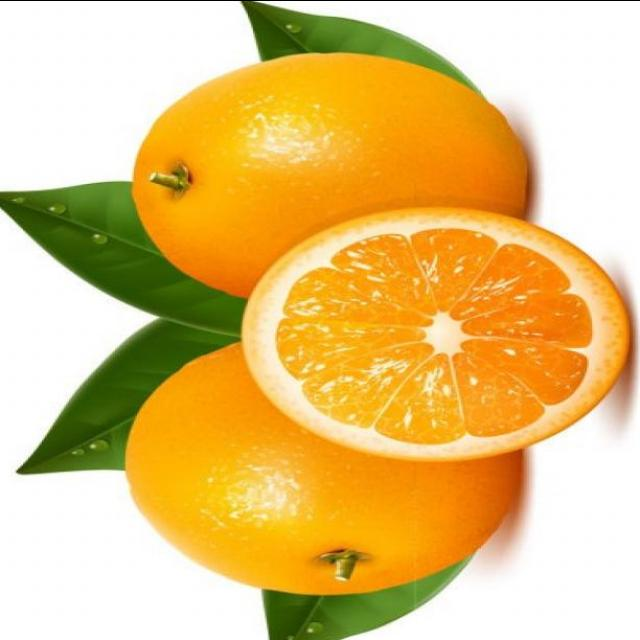orange: (118, 322, 573, 606), (127, 45, 542, 312)
